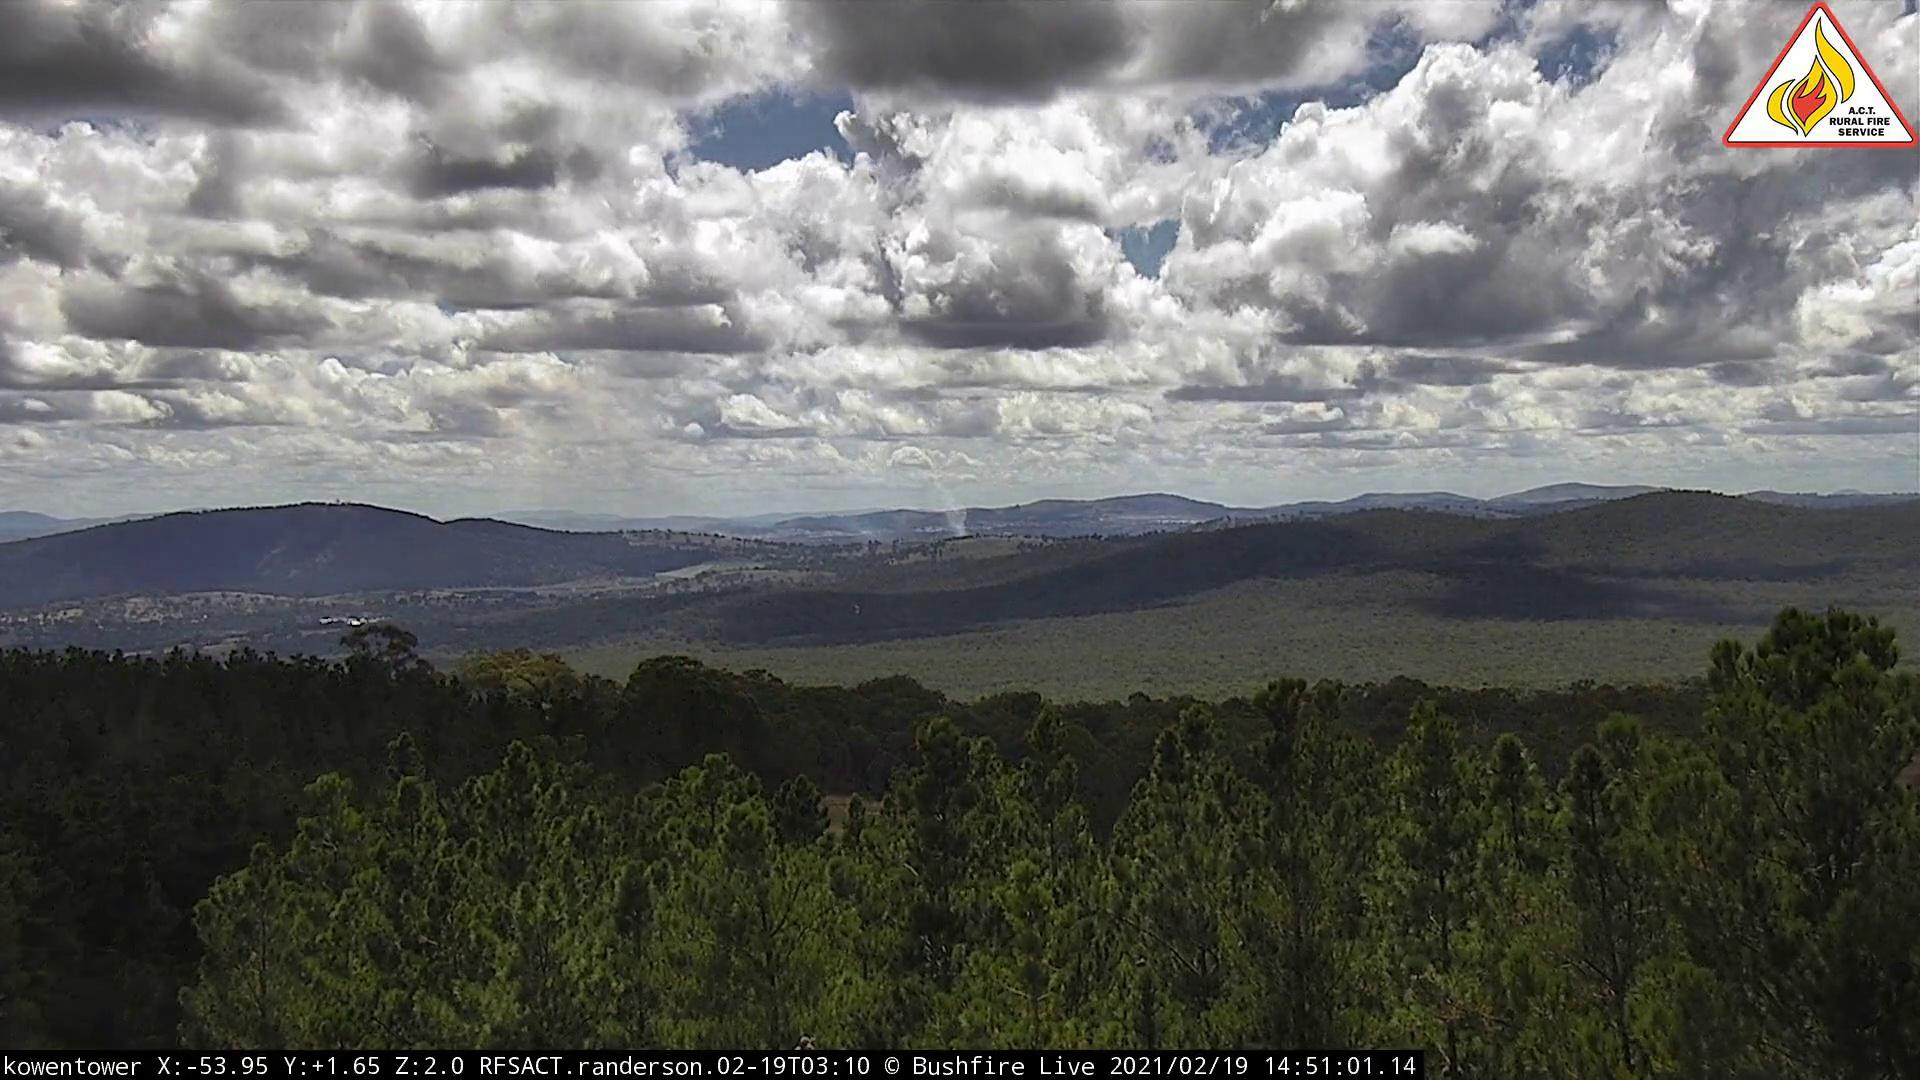Smoke: (560, 465, 977, 545)
